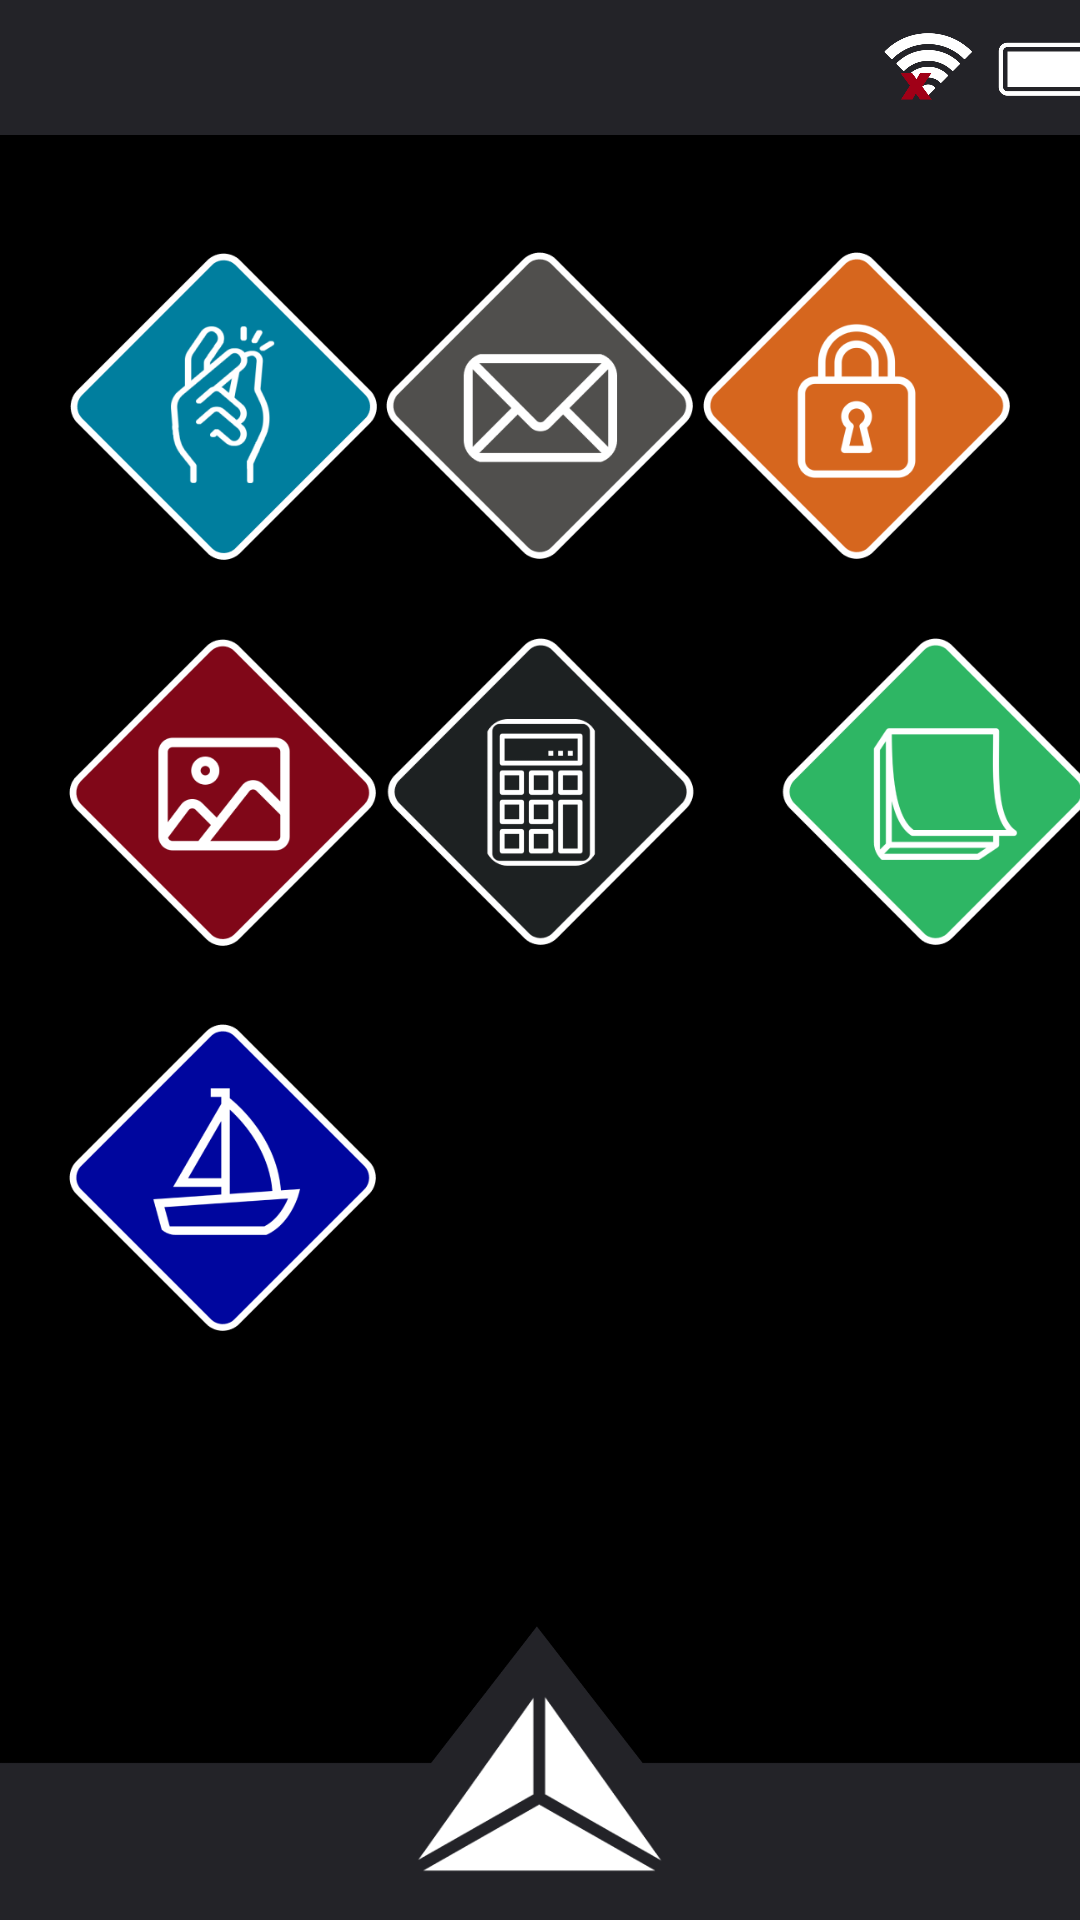

Icon bounding boxes for this 1080px x 1920px phone screenshot, format (x1, y1, x2, y2):
imgbtncalculadora: (387, 638, 694, 945)
imgbtnemail: (386, 252, 693, 559)
imgbtngaleria: (69, 639, 376, 946)
imgbtnlock: (703, 252, 1010, 559)
imgbtnnotes: (782, 638, 1080, 945)
imgbtnsnap: (70, 253, 377, 560)
